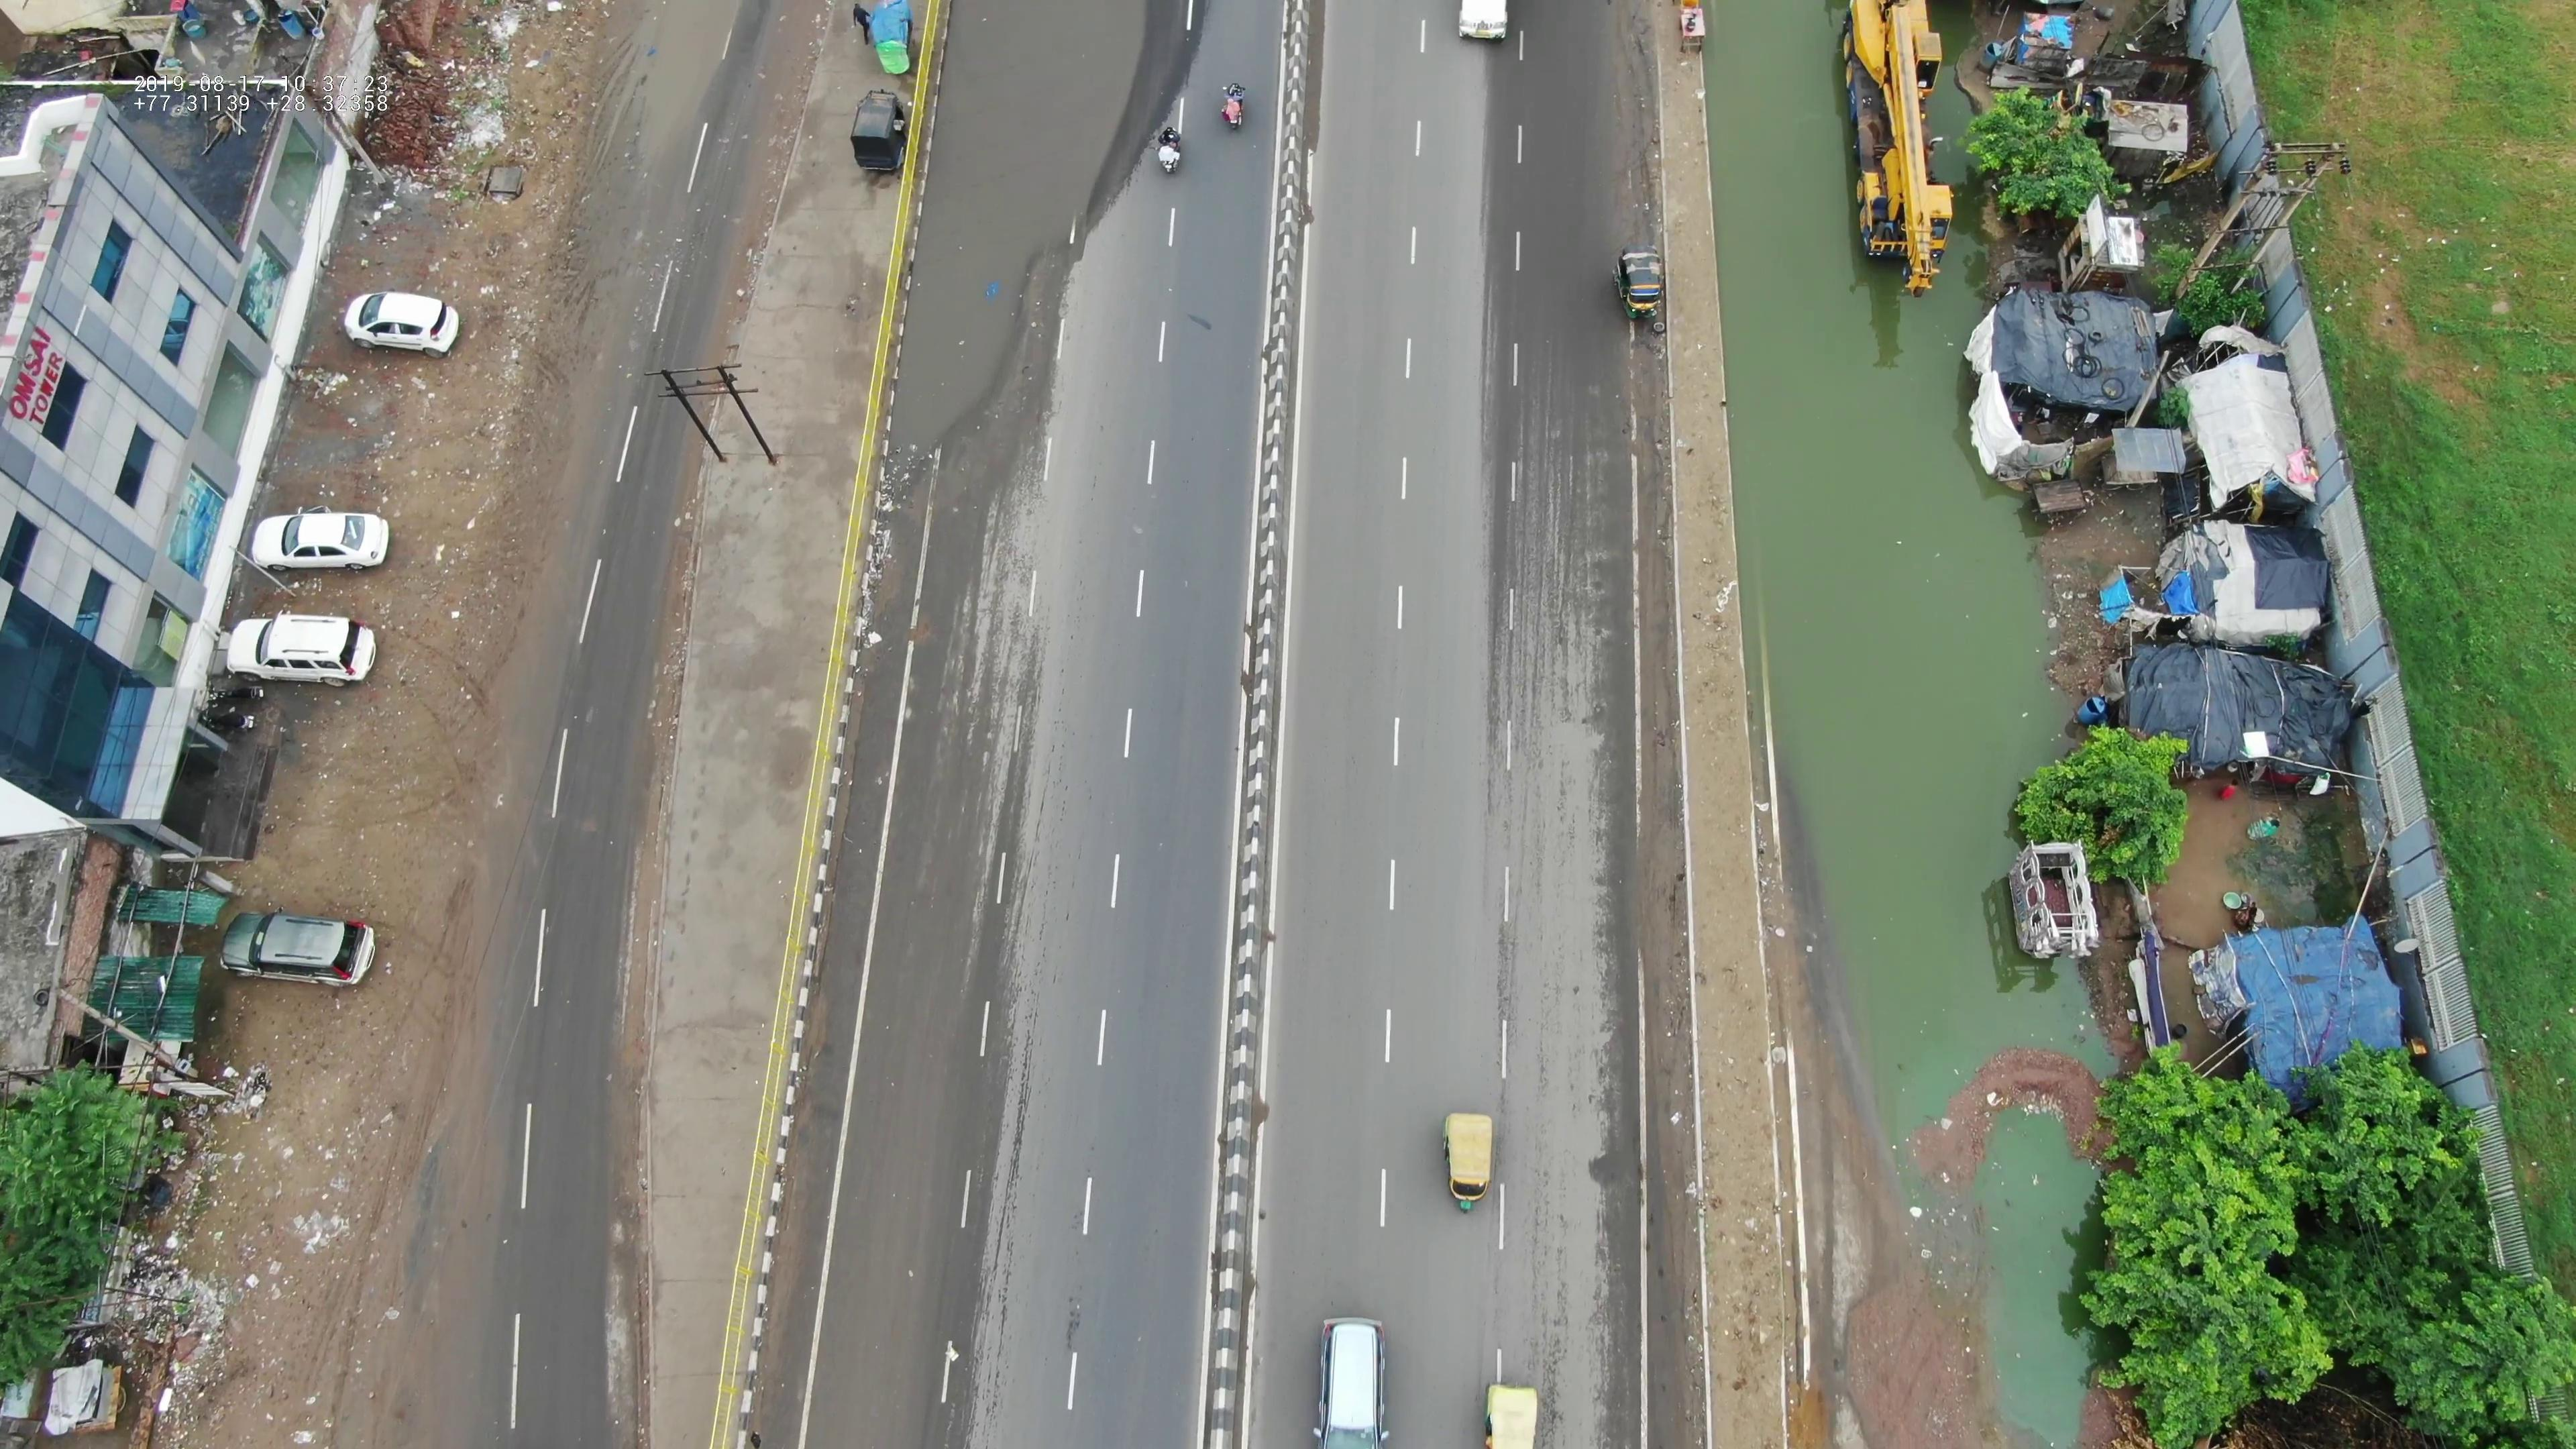Muddy_road: (469, 479, 579, 775), (515, 248, 619, 464)
Waterlogging: (1720, 25, 2120, 1095), (878, 21, 1146, 492), (1973, 1102, 2112, 1391)
